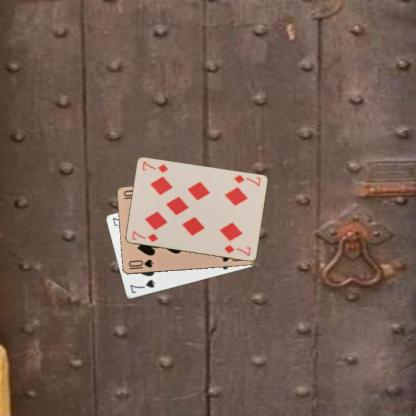10s: (126, 257, 154, 271)
7d: (231, 172, 262, 187), (129, 228, 159, 243)
7s: (128, 277, 156, 295)
